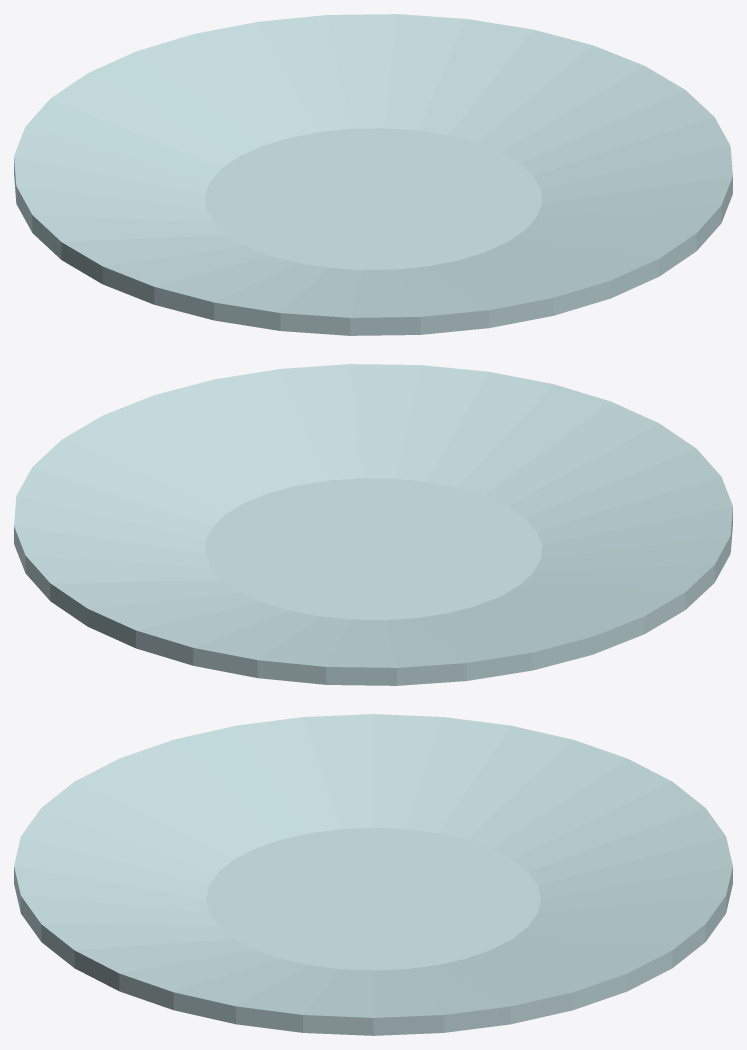
The model's file is platos.fbx.
The picture shows the model from 3 angles, top to bottom: view 1: azimuth 30°, elevation 25°; view 2: azimuth 150°, elevation 25°; view 3: azimuth 270°, elevation 25°; orthographic projection.
Visible parts, largest first — view 1: Cilindro; view 2: Cilindro; view 3: Cilindro.
Boxes of the visible parts, box(x1,y1,x2,y2) form: Cilindro: box(14, 14, 732, 335); Cilindro: box(14, 364, 732, 685); Cilindro: box(14, 714, 732, 1035).
Size of the model in its own units: 200 by 17.08 by 200.
